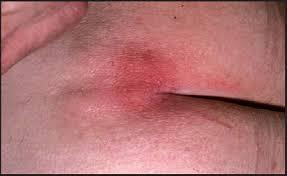Stage3: (102, 43, 178, 117)
